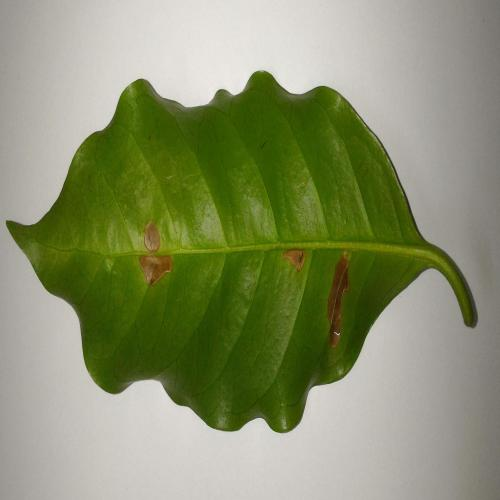leaf: (139, 221, 172, 284)
